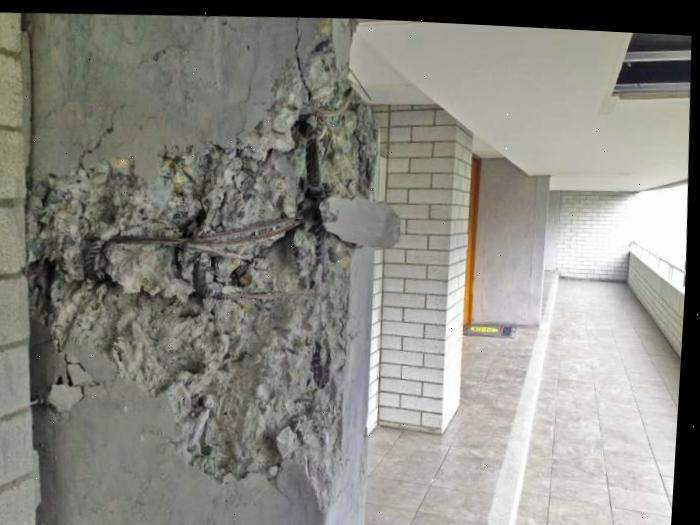exposed_rebar: (84, 215, 313, 277), (305, 128, 320, 188)
spalling: (18, 17, 379, 508)
